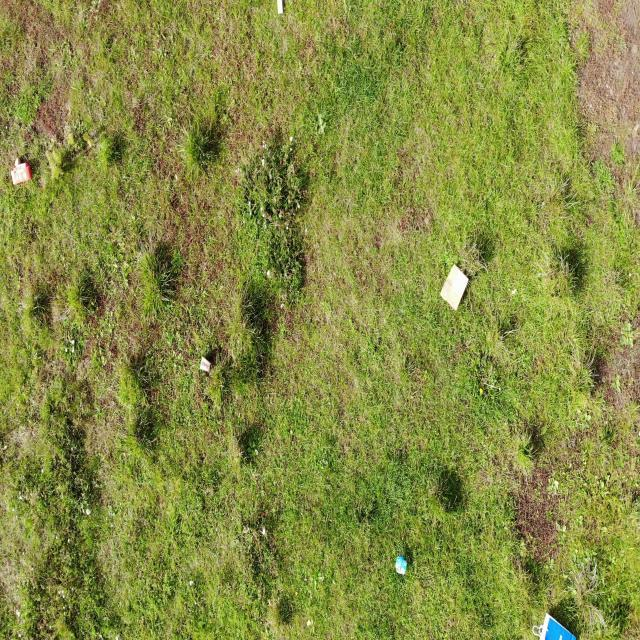rubbish: (438, 262, 471, 314), (540, 614, 576, 640), (10, 161, 32, 186), (395, 556, 408, 578), (199, 356, 212, 376), (276, 0, 284, 15)
